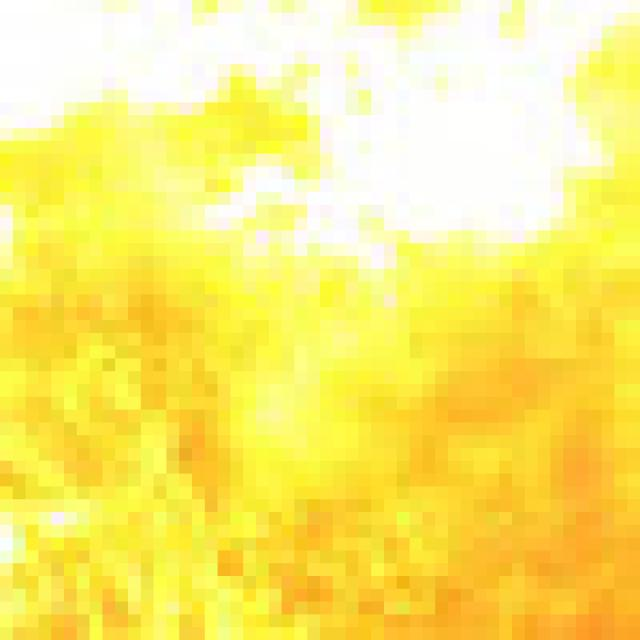fire: (7, 4, 636, 640)
